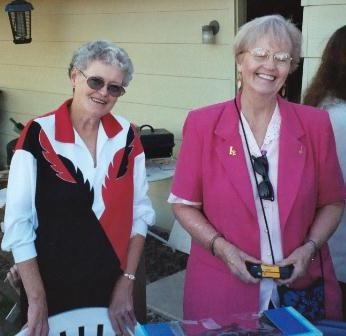head: (230, 15, 296, 100), (70, 40, 127, 117)
person: (166, 12, 346, 335), (1, 37, 159, 336)
